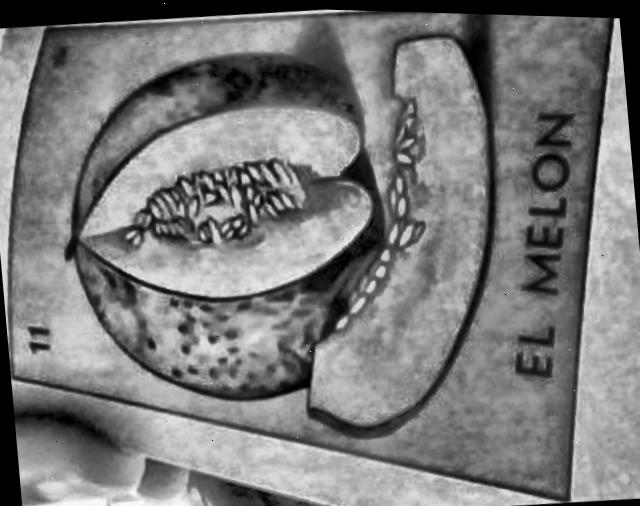El Melon: (12, 9, 611, 493)
